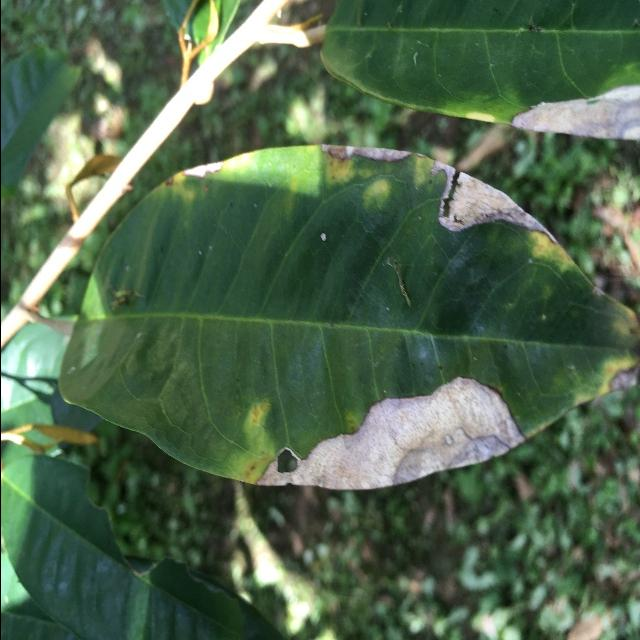Leaf Blight: (49, 136, 640, 503)
